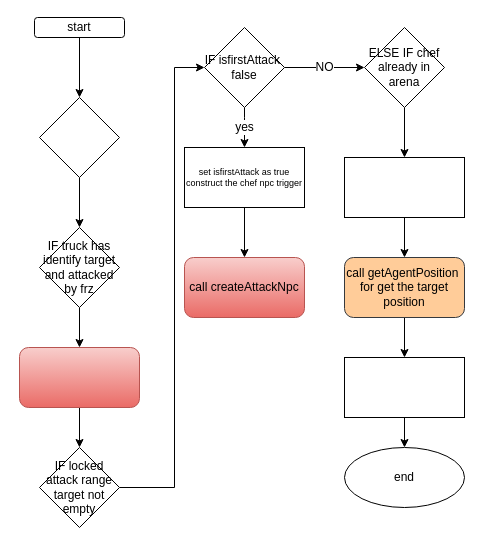
Image size: 482x545. Some labels were removed from this diagram. The box of each missing label's shape, as (x1, y1, x2, y2) in pixels:
call identifyTargetAgent: (18, 346, 140, 408)
IF target agent type not spell and locked attack rng empty: (38, 96, 120, 178)
set stop search,locked sight rng to npc: (344, 156, 464, 218)
set the target point to npc: (344, 356, 464, 418)
